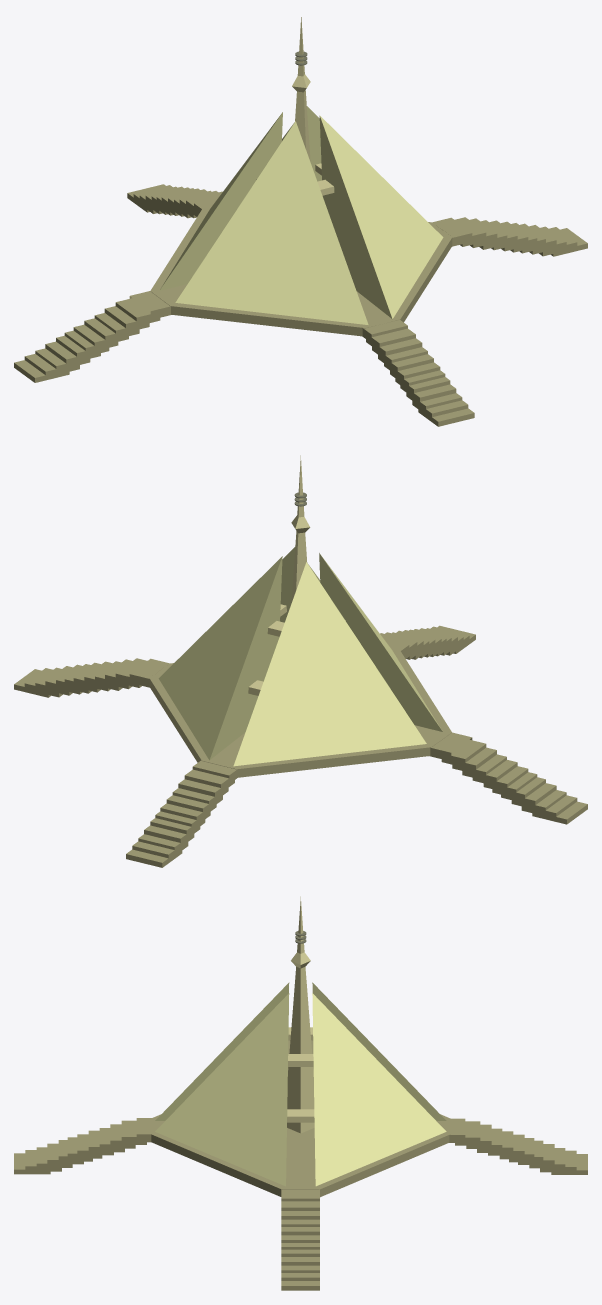
File: seedbank tall.fbx
The picture shows the model from 3 angles, top to bottom: view 1: azimuth 30°, elevation 25°; view 2: azimuth 150°, elevation 25°; view 3: azimuth 270°, elevation 25°; orthographic projection. The views are drawn at different scales.
Parts seen in each view (by area): view 1: mini pyramids, side stairs, base, front stairs, back stairs, pillar; view 2: mini pyramids, side stairs, base, back stairs, front stairs, pillar; view 3: mini pyramids, base, side stairs, back stairs, front stairs, pillar, bridge thingies.
Part boxes in pixels (x1,y1,x2,y2): mini pyramids: (159,106,443,324); side stairs: (14,217,587,382); base: (150,206,452,336); front stairs: (362,320,474,426); back stairs: (127,184,222,218); pillar: (292,17,310,161); mini pyramids: (158,547,442,766); side stairs: (14,658,587,824); base: (149,647,451,777); back stairs: (126,760,237,867); front stairs: (380,625,475,659); pillar: (291,455,310,602); mini pyramids: (155,982,446,1186); base: (150,1069,450,1197); side stairs: (281,1040,319,1290); back stairs: (449,1118,587,1174); front stairs: (14,1118,151,1174); pillar: (287,896,314,1133); bridge thingies: (287,1027,314,1122).
Size of the model in its own units: 1613 by 820 by 1578.
